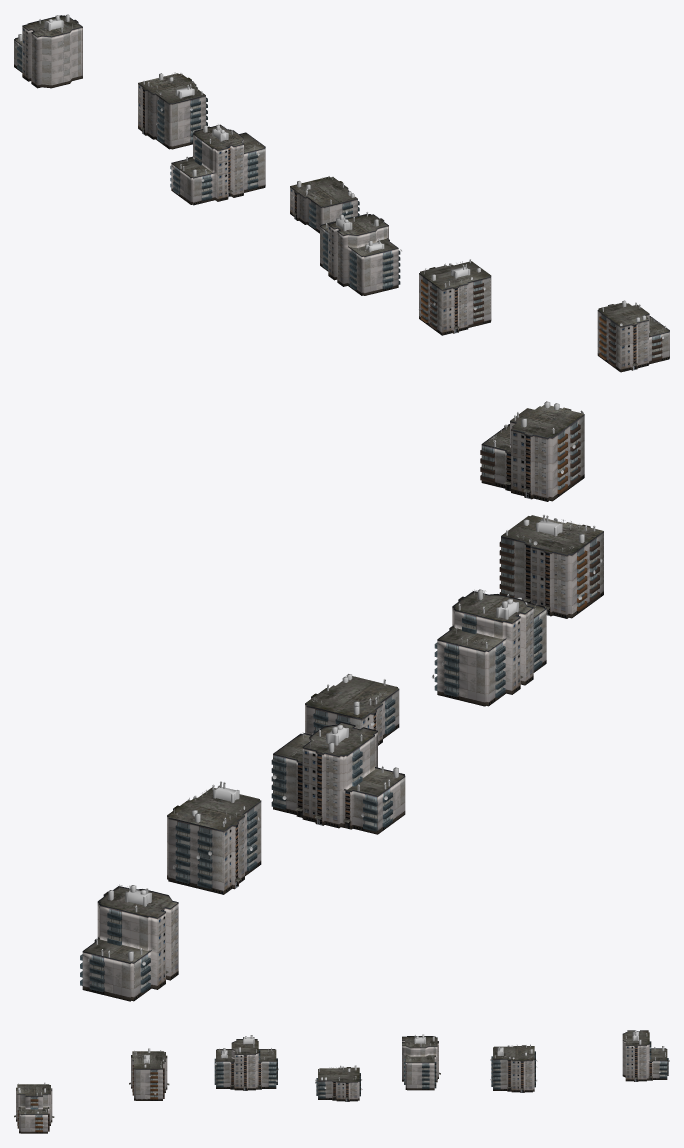
Rendered from bg_gebaeude.fbx.
3 views of the same model, one above another, from view 1: azimuth 30°, elevation 25°; view 2: azimuth 150°, elevation 25°; view 3: azimuth 270°, elevation 25° (orthographic). The views are drawn at different scales.
Parts seen in each view (by area): view 1: Mesh, Mesh_ncl1_1; view 2: Mesh, Mesh_ncl1_1; view 3: Mesh, Mesh_ncl1_1.
Boxes of the visible parts, x1,y1,x2,y2 form: Mesh: [290, 176, 669, 372]; Mesh_ncl1_1: [14, 14, 265, 205]; Mesh: [305, 401, 603, 745]; Mesh_ncl1_1: [80, 722, 405, 1001]; Mesh: [14, 1035, 362, 1133]; Mesh_ncl1_1: [402, 1030, 669, 1092].
Bounding box in the file's own units: 9080 × 2549 × 35357.
